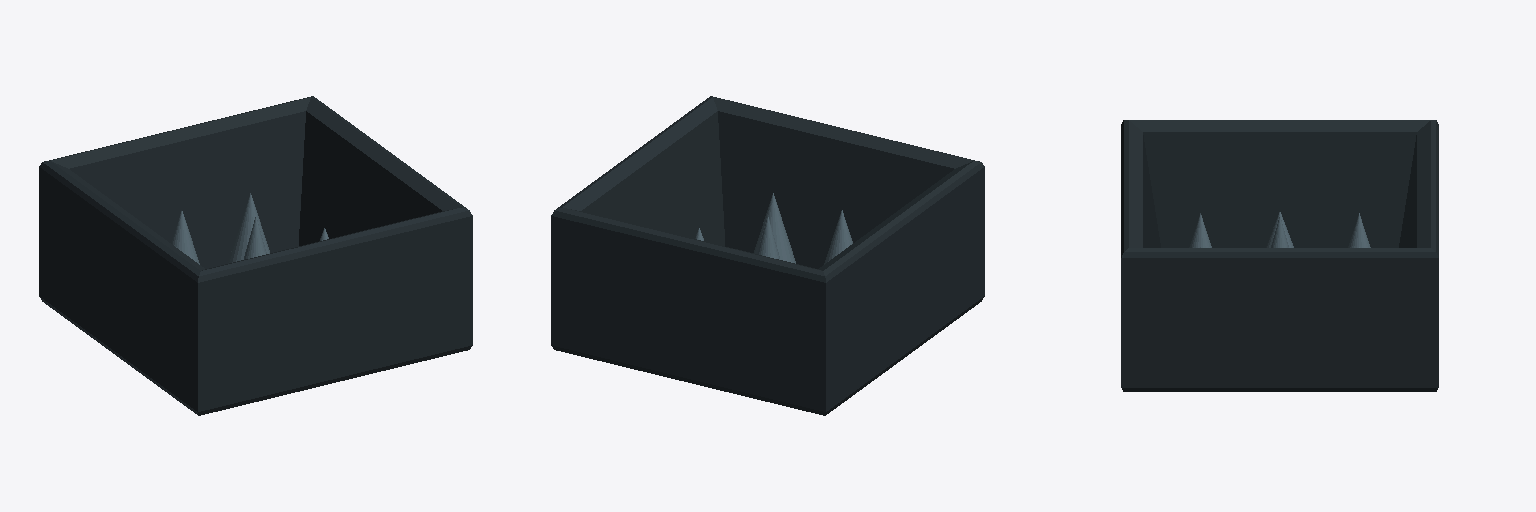
Rendered from tileSpikes_shallow.obj.
3 renders of one model, left to right at view 1: azimuth 30°, elevation 25°; view 2: azimuth 150°, elevation 25°; view 3: azimuth 270°, elevation 25°, orthographic.
Parts seen in each view (by area): view 1: tileSpikes_shallow_Cube.3225; view 2: tileSpikes_shallow_Cube.3225; view 3: tileSpikes_shallow_Cube.3225.
Boxes of the visible parts, x1=… form: tileSpikes_shallow_Cube.3225: x1=39, y1=96, x2=472, y2=415; tileSpikes_shallow_Cube.3225: x1=551, y1=96, x2=984, y2=415; tileSpikes_shallow_Cube.3225: x1=1121, y1=120, x2=1438, y2=391.
Size of the model in its own units: 2 by 1 by 2.